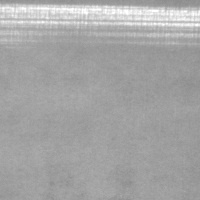scratches: (1, 4, 199, 35)
